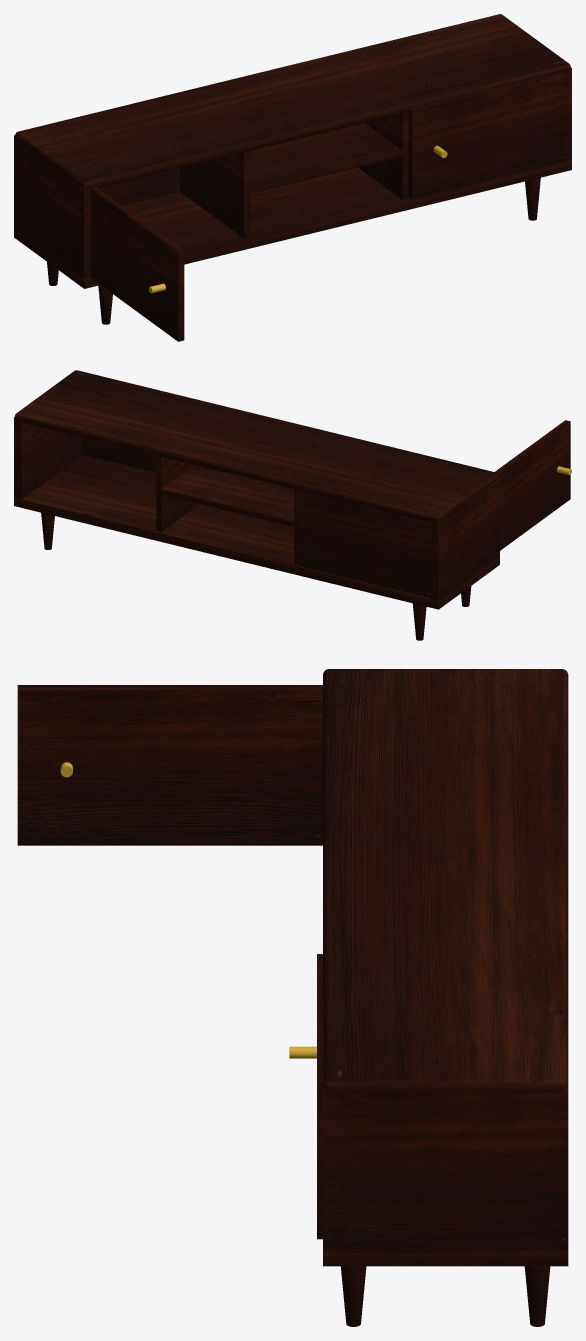
File: state-mlsncwfv-pq43.glb
3 renders of one model, top to bottom at view 1: azimuth 30°, elevation 25°; view 2: azimuth 150°, elevation 25°; view 3: azimuth 270°, elevation 25°, orthographic. The views are drawn at different scales.
Visible parts, largest first — view 1: assetPrim:2f1b51866fa368-19c731443ef:tv-stand-top, assetPrim:2f1b51866fa368-19c731443ef:tv-stand-bottom, assetPrim:2f1b51866fa368-19c731443ef:tv-stand-door-r, assetPrim:2f1b51866fa368-19c731443ef:tv-stand-door-l, assetPrim:2f1b51866fa368-19c731443ef:tv-stand-side-l, assetPrim:2f1b51866fa368-19c731443ef:tv-stand-shelf-mid, assetPrim:2f1b51866fa368-19c731443ef:tv-stand-div-l, assetPrim:2f1b51866fa368-19c731443ef:tv-stand-div-r, assetPrim:2f1b51866fa368-19c731443ef:01829b3e5adb5-19c730584, assetPrim:2f1b51866fa368-19c731443ef:tv-stand-side-r, assetPrim:2f1b51866fa368-19c731443ef:tv-stand-leg-fr, assetPrim:2f1b51866fa368-19c731443ef:tv-stand-leg-fl; view 2: assetPrim:2f1b51866fa368-19c731443ef:tv-stand-top, assetPrim:2f1b51866fa368-19c731443ef:tv-stand-bottom, assetPrim:2f1b51866fa368-19c731443ef:01829b3e5adb5-19c730584, assetPrim:2f1b51866fa368-19c731443ef:tv-stand-door-l, assetPrim:2f1b51866fa368-19c731443ef:tv-stand-side-l, assetPrim:2f1b51866fa368-19c731443ef:tv-stand-shelf-mid, assetPrim:2f1b51866fa368-19c731443ef:tv-stand-side-r, assetPrim:2f1b51866fa368-19c731443ef:tv-stand-div-r, assetPrim:2f1b51866fa368-19c731443ef:tv-stand-door-r, assetPrim:2f1b51866fa368-19c731443ef:tv-stand-leg-bl, assetPrim:2f1b51866fa368-19c731443ef:tv-stand-leg-br, assetPrim:2f1b51866fa368-19c731443ef:tv-stand-div-l; view 3: assetPrim:2f1b51866fa368-19c731443ef:tv-stand-top, assetPrim:2f1b51866fa368-19c731443ef:tv-stand-door-l, assetPrim:2f1b51866fa368-19c731443ef:tv-stand-side-r, assetPrim:2f1b51866fa368-19c731443ef:tv-stand-bottom, assetPrim:2f1b51866fa368-19c731443ef:tv-stand-door-r, assetPrim:2f1b51866fa368-19c731443ef:tv-stand-leg-fr, assetPrim:2f1b51866fa368-19c731443ef:tv-stand-leg-br.
Part boxes in pixels (<box>): assetPrim:2f1b51866fa368-19c731443ef:tv-stand-top: <box>15,14,570,188</box>; assetPrim:2f1b51866fa368-19c731443ef:tv-stand-bottom: <box>14,160,571,288</box>; assetPrim:2f1b51866fa368-19c731443ef:tv-stand-door-r: <box>408,72,564,199</box>; assetPrim:2f1b51866fa368-19c731443ef:tv-stand-door-l: <box>90,187,184,341</box>; assetPrim:2f1b51866fa368-19c731443ef:tv-stand-side-l: <box>14,135,93,279</box>; assetPrim:2f1b51866fa368-19c731443ef:tv-stand-shelf-mid: <box>250,123,402,193</box>; assetPrim:2f1b51866fa368-19c731443ef:tv-stand-div-l: <box>180,151,250,238</box>; assetPrim:2f1b51866fa368-19c731443ef:tv-stand-div-r: <box>359,112,408,199</box>; assetPrim:2f1b51866fa368-19c731443ef:01829b3e5adb5-19c730584: <box>98,168,179,205</box>; assetPrim:2f1b51866fa368-19c731443ef:tv-stand-side-r: <box>563,67,571,161</box>; assetPrim:2f1b51866fa368-19c731443ef:tv-stand-leg-fr: <box>525,177,540,220</box>; assetPrim:2f1b51866fa368-19c731443ef:tv-stand-leg-fl: <box>98,285,112,324</box>; assetPrim:2f1b51866fa368-19c731443ef:tv-stand-top: <box>15,370,498,522</box>; assetPrim:2f1b51866fa368-19c731443ef:tv-stand-bottom: <box>14,455,499,609</box>; assetPrim:2f1b51866fa368-19c731443ef:01829b3e5adb5-19c730584: <box>299,490,430,598</box>; assetPrim:2f1b51866fa368-19c731443ef:tv-stand-door-l: <box>495,420,570,550</box>; assetPrim:2f1b51866fa368-19c731443ef:tv-stand-side-l: <box>430,475,499,601</box>; assetPrim:2f1b51866fa368-19c731443ef:tv-stand-shelf-mid: <box>161,465,294,526</box>; assetPrim:2f1b51866fa368-19c731443ef:tv-stand-side-r: <box>14,416,82,499</box>; assetPrim:2f1b51866fa368-19c731443ef:tv-stand-div-r: <box>156,455,199,531</box>; assetPrim:2f1b51866fa368-19c731443ef:tv-stand-door-r: <box>81,437,156,472</box>; assetPrim:2f1b51866fa368-19c731443ef:tv-stand-leg-bl: <box>412,603,426,640</box>; assetPrim:2f1b51866fa368-19c731443ef:tv-stand-leg-br: <box>41,512,54,549</box>; assetPrim:2f1b51866fa368-19c731443ef:tv-stand-div-l: <box>294,489,298,565</box>; assetPrim:2f1b51866fa368-19c731443ef:tv-stand-top: <box>323,669,568,1092</box>; assetPrim:2f1b51866fa368-19c731443ef:tv-stand-door-l: <box>17,685,322,845</box>; assetPrim:2f1b51866fa368-19c731443ef:tv-stand-side-r: <box>323,1086,568,1249</box>; assetPrim:2f1b51866fa368-19c731443ef:tv-stand-bottom: <box>323,1249,568,1266</box>; assetPrim:2f1b51866fa368-19c731443ef:tv-stand-door-r: <box>317,954,322,1239</box>; assetPrim:2f1b51866fa368-19c731443ef:tv-stand-leg-fr: <box>340,1266,366,1326</box>; assetPrim:2f1b51866fa368-19c731443ef:tv-stand-leg-br: <box>524,1266,550,1326</box>.
Size of the model in its own units: 1.62 by 0.4828 by 0.8978.
Materials: 16 (14 with a texture image).
